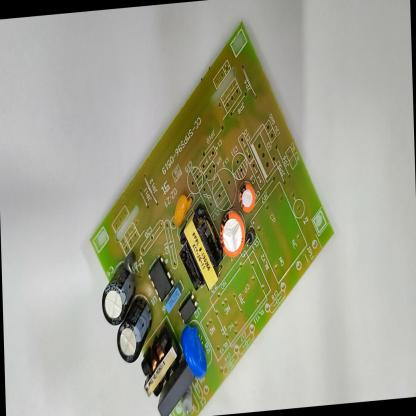Cap1: (218, 205, 247, 262)
Cap2: (238, 178, 257, 216)
Cap3: (113, 293, 156, 367)
Cap4: (98, 257, 138, 328)
MOSFET: (146, 252, 176, 306)
Mov: (179, 318, 209, 382)
Resistor: (180, 386, 194, 416)
Transformer: (176, 201, 224, 294), (138, 328, 184, 402)
